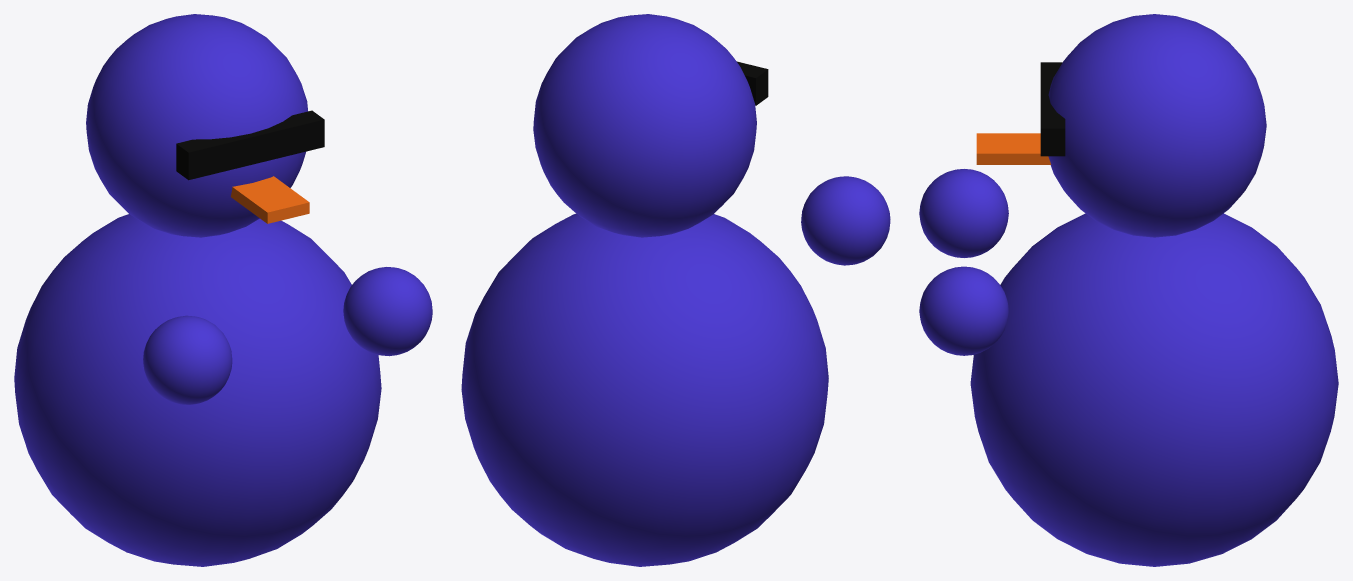
Rendered from CollectableDuck.fbx.
The picture shows the model from 3 angles, left to right: view 1: azimuth 30°, elevation 25°; view 2: azimuth 150°, elevation 25°; view 3: azimuth 270°, elevation 25°; orthographic projection.
Visible parts, largest first — view 1: Belly, Head, HandL, HandR, re, Cube; view 2: Belly, Head, HandR, re; view 3: Belly, Head, HandL, HandR, Cube, re.
Boxes of the visible parts, x1=… form: Belly: x1=14, y1=214, x2=381, y2=566; Head: x1=86, y1=14, x2=307, y2=237; HandL: x1=343, y1=267, x2=432, y2=356; HandR: x1=143, y1=315, x2=232, y2=404; re: x1=176, y1=110, x2=324, y2=180; Cube: x1=230, y1=176, x2=309, y2=223; Belly: x1=461, y1=213, x2=828, y2=566; Head: x1=533, y1=14, x2=756, y2=237; HandR: x1=801, y1=176, x2=890, y2=265; re: x1=736, y1=61, x2=768, y2=105; Belly: x1=970, y1=213, x2=1338, y2=566; Head: x1=1048, y1=14, x2=1266, y2=237; HandL: x1=919, y1=266, x2=1008, y2=355; HandR: x1=919, y1=169, x2=1008, y2=257; Cube: x1=976, y1=133, x2=1051, y2=164; re: x1=1040, y1=62, x2=1065, y2=156.
Bounding box in the file's own units: 117 × 185 × 134.
